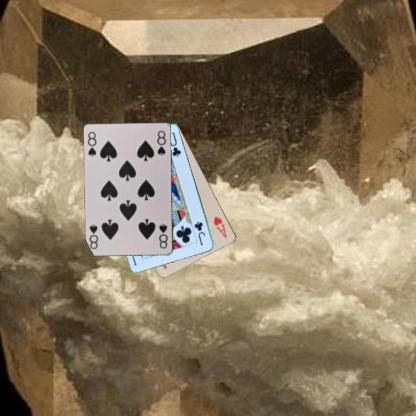8s: (156, 221, 169, 250), (86, 129, 98, 158)
Ah: (212, 214, 228, 239)
Jc: (192, 219, 206, 247)
